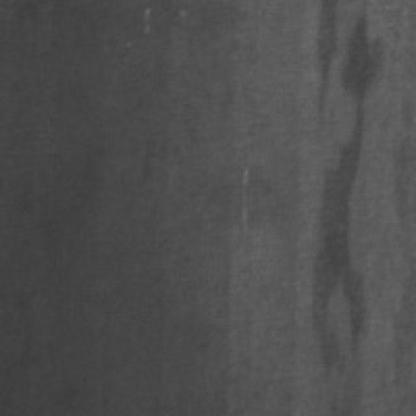inclusion: (287, 0, 378, 410)
